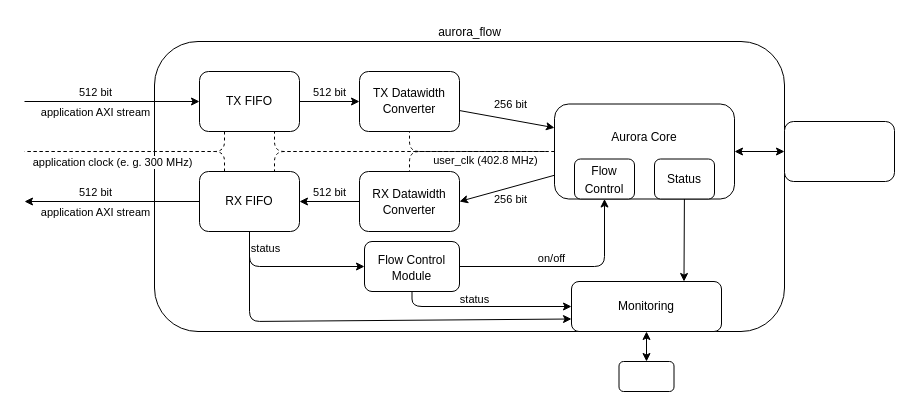
The diagram is 912 pixels wide and 409 high, and some of its shapes have lost their labels. Here are the shapes that lost their labels. From the top down, the centre of each, then its label:
At pixel 839 151: "QSFP Port".
At pixel 646 376: "Host".
